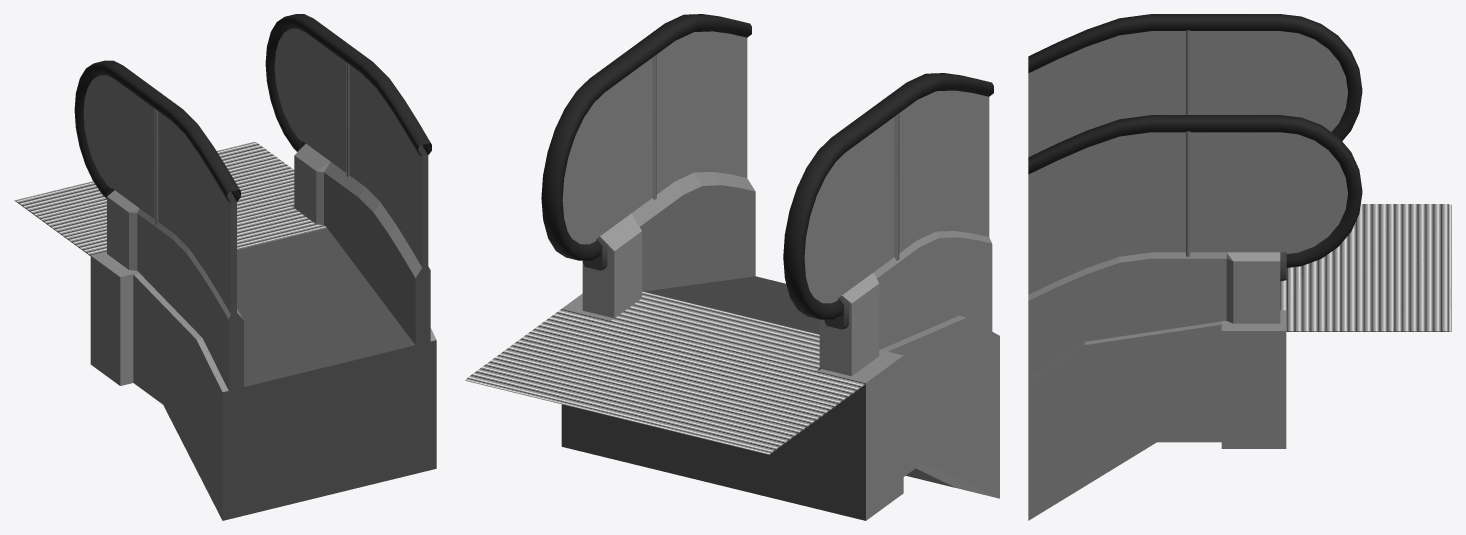
File: SW_ENV_Escalator_TopSteps_Base.fbx
The picture shows the model from 3 angles, left to right: view 1: azimuth 30°, elevation 25°; view 2: azimuth 150°, elevation 25°; view 3: azimuth 270°, elevation 25°; orthographic projection. The views are drawn at different scales.
Parts seen in each view (by area): view 1: SW_ENV_Escalator_TopSteps_Base; view 2: SW_ENV_Escalator_TopSteps_Base; view 3: SW_ENV_Escalator_TopSteps_Base.
Part boxes in pixels (box(x1,y1,x2,y2)): SW_ENV_Escalator_TopSteps_Base: box(14, 14, 436, 520); SW_ENV_Escalator_TopSteps_Base: box(465, 14, 999, 520); SW_ENV_Escalator_TopSteps_Base: box(1028, 14, 1451, 520).
Bounding box in the file's own units: 1.4 × 2.04 × 1.97.
